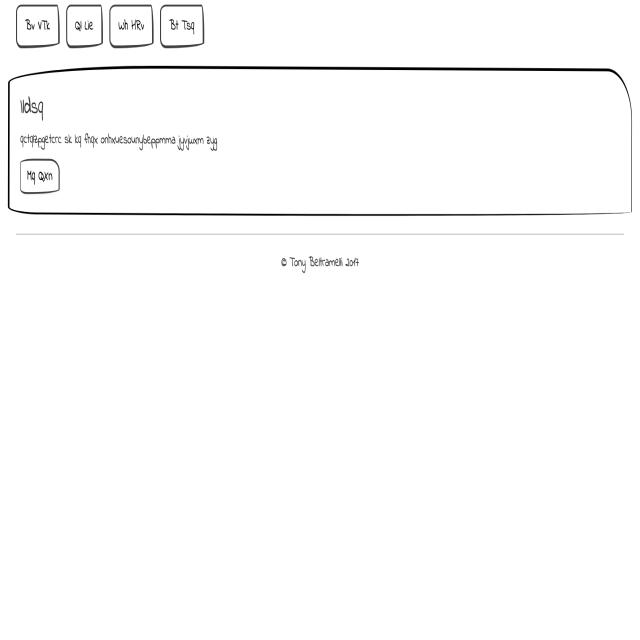Button: (19, 157, 60, 194)
Card: (8, 72, 632, 213)
Footer: (0, 232, 640, 640)
Heading 6: (21, 97, 47, 120)
Navigation Bar: (12, 1, 207, 52)
Paragraph: (19, 131, 220, 155)
